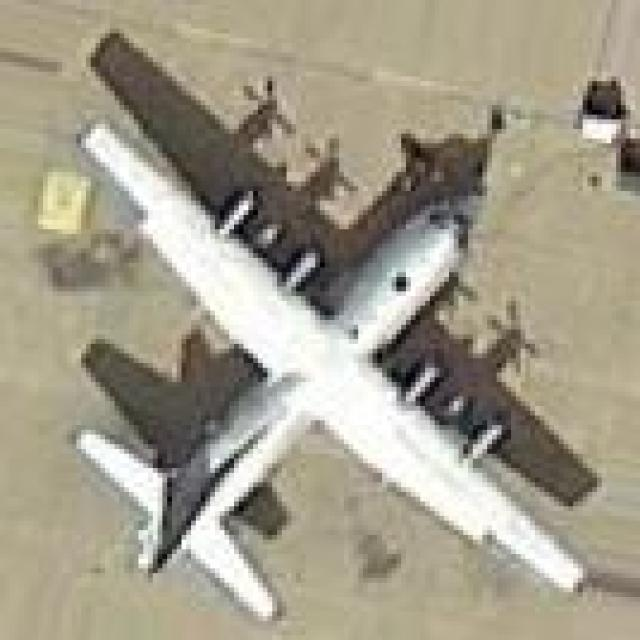C-130_TopDown: (59, 19, 602, 623)
